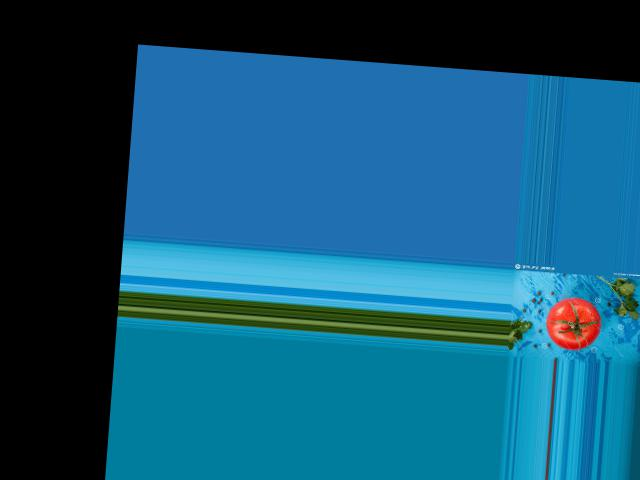tomato: (545, 295, 603, 351)
